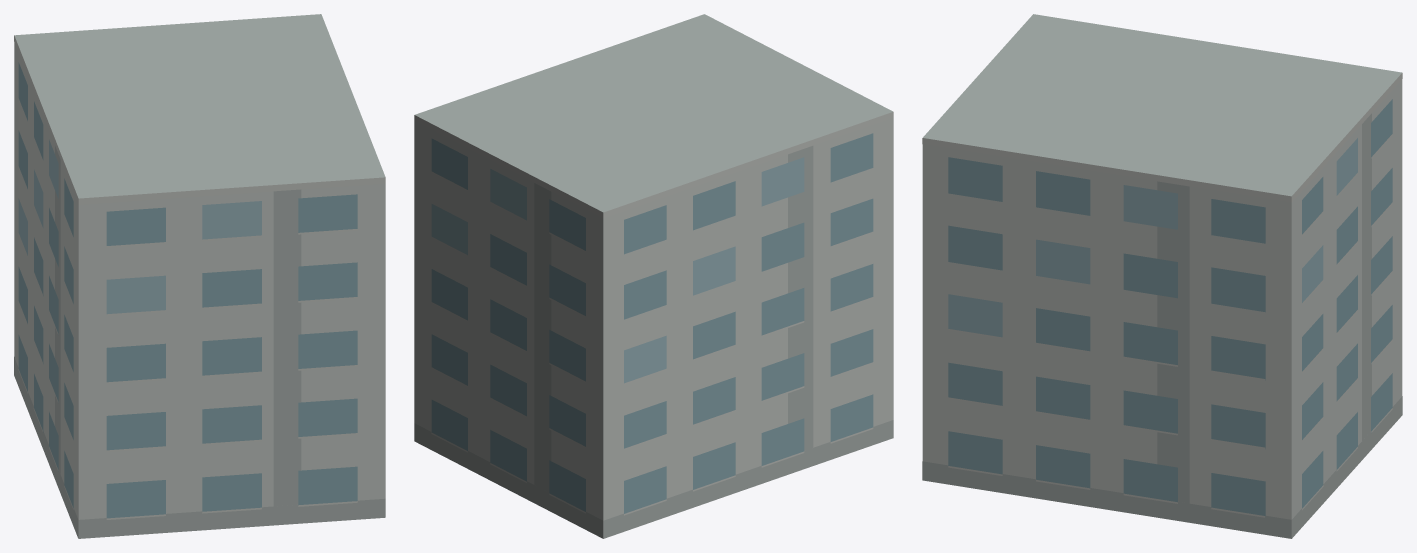
The model's file is survey-upis-32849537.glb.
3 renders of one model, left to right at view 1: azimuth 30°, elevation 25°; view 2: azimuth 150°, elevation 25°; view 3: azimuth 270°, elevation 25°, orthographic. The views are drawn at different scales.
Visible parts, largest first — view 1: survey-upis-32849537.tmp; view 2: survey-upis-32849537.tmp; view 3: survey-upis-32849537.tmp.
Part boxes in pixels (bbox=[...]): survey-upis-32849537.tmp: bbox=[14, 14, 385, 538]; survey-upis-32849537.tmp: bbox=[414, 14, 893, 538]; survey-upis-32849537.tmp: bbox=[922, 14, 1402, 538].
Bounding box in the file's own units: 15.08 × 13.2 × 16.77.
